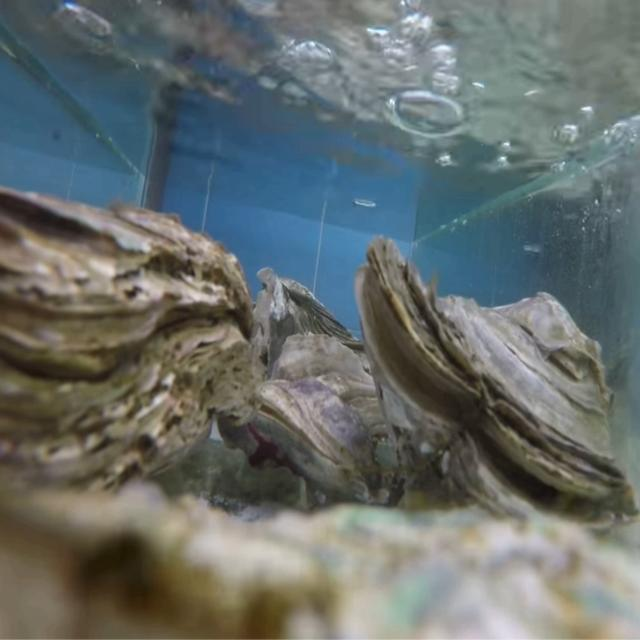Oyster-Closed: (0, 185, 255, 521), (250, 332, 406, 507)
Oyster-Indeterminate: (0, 481, 640, 640)
Oyster-Open: (354, 235, 640, 541)
